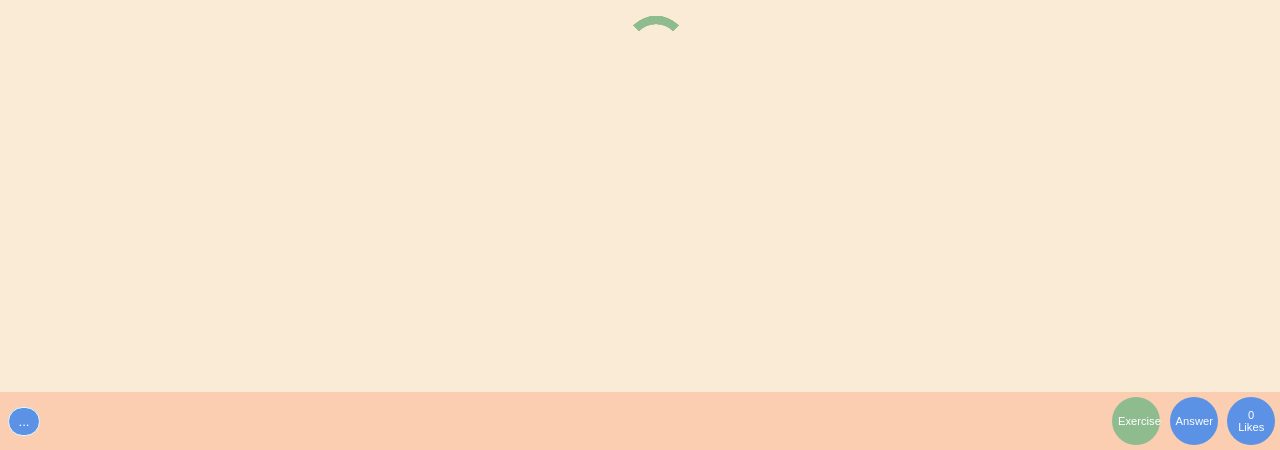
ExercisePage › ... (more) btn must open menue with default options
Click the button "..." at point(24, 421), box [8,407,40,436]
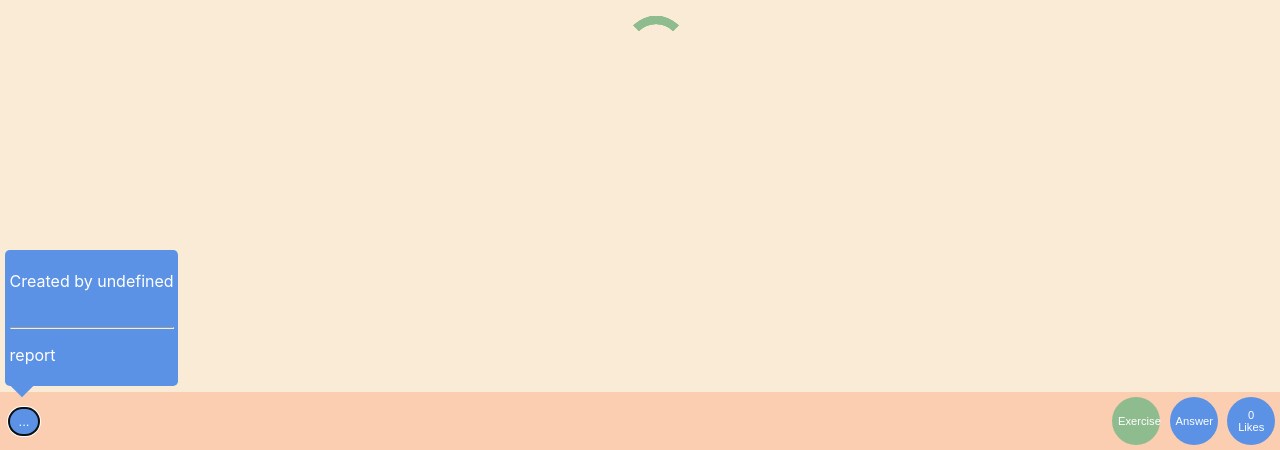
Check: the text "Created by undefined" is shown, box [10,271,174,291]
Check: the text "report" is shown, box [10,345,56,365]
